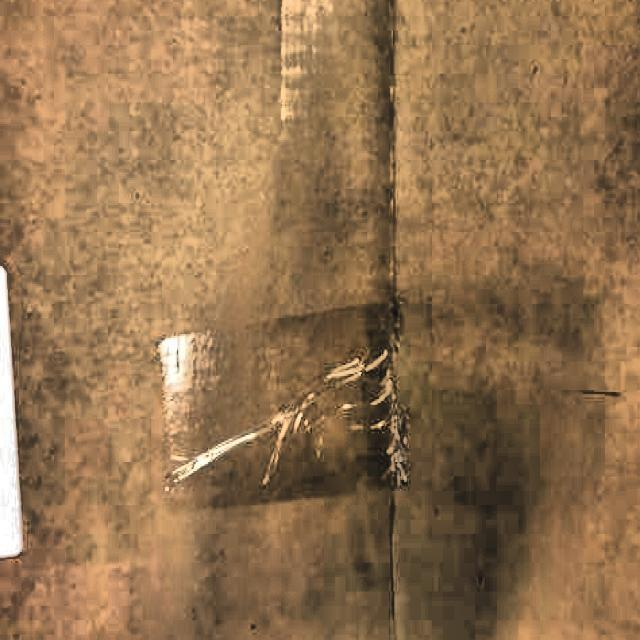cardboard: (0, 264, 23, 572)
